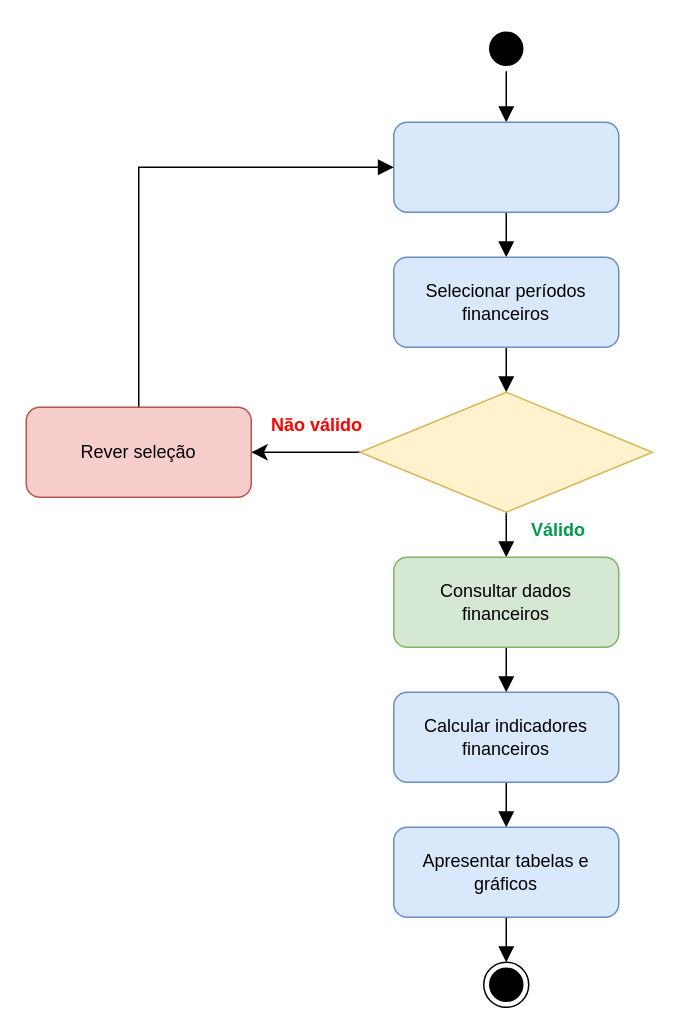
The diagram is 680 pixels wide and 1034 high, and some of its shapes have lost their labels. Here are the shapes that lost their labels. From the top down, the centre of each, then its label:
At point 505,166: "Selecionar empresas".
At point 505,451: "Verificar critérios de comparação".
